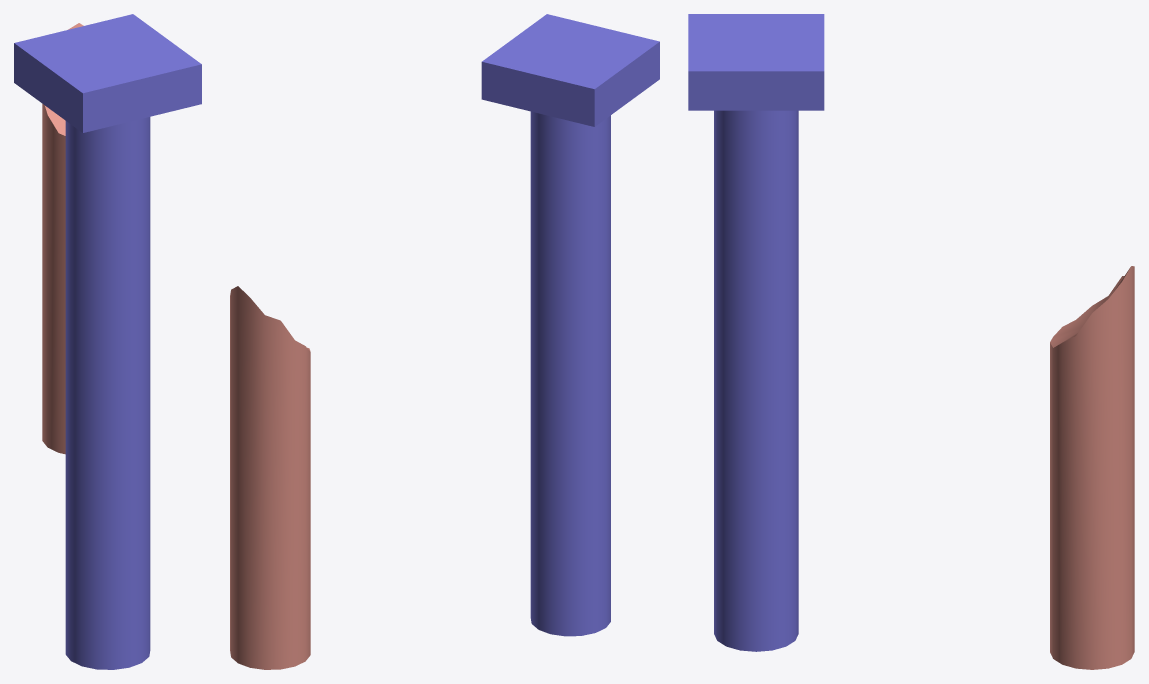
The model's file is columns.fbx.
3 renders of one model, left to right at view 1: azimuth 30°, elevation 25°; view 2: azimuth 150°, elevation 25°; view 3: azimuth 270°, elevation 25°, orthographic. The views are drawn at different scales.
Parts seen in each view (by area): view 1: Column Tall, Column Small; view 2: Column Tall, Column Small; view 3: Column Tall, Column Small.
Part boxes in pixels (x1,y1,x2,y2): Column Tall: (14, 14, 201, 669); Column Small: (42, 23, 83, 454); Column Tall: (481, 14, 659, 636); Column Small: (230, 286, 310, 669); Column Tall: (688, 14, 824, 651); Column Small: (1050, 266, 1134, 669).
Size of the model in its own units: 4.59 by 10.8 by 7.38.
